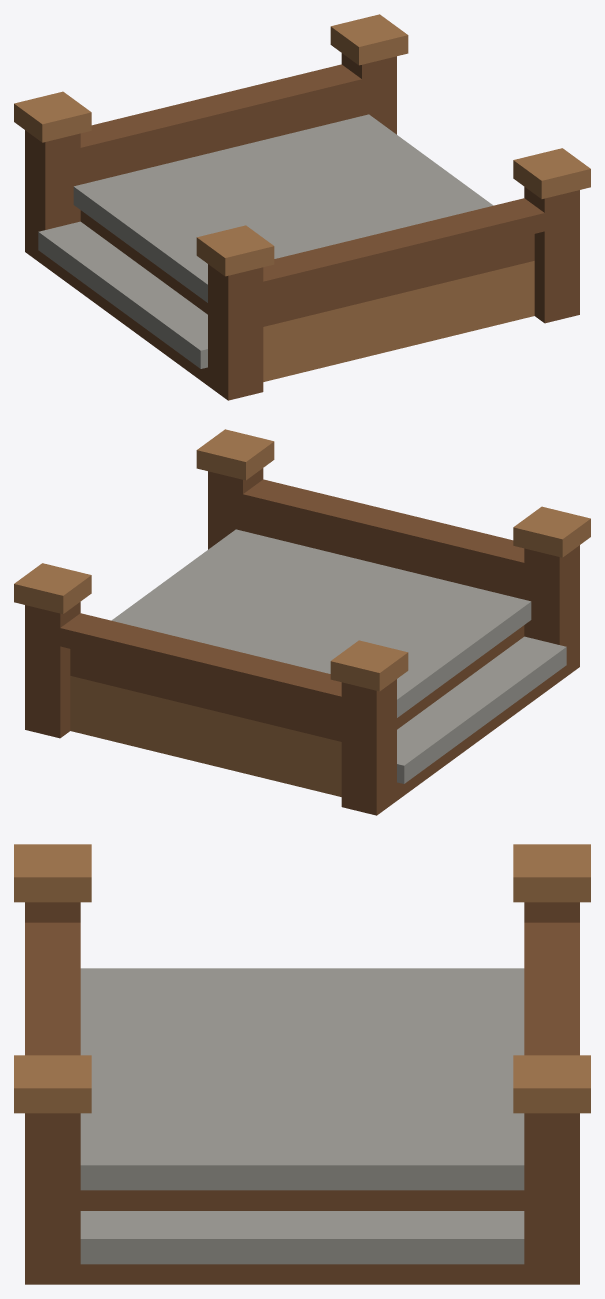
File: bridge_wood.glb
3 views of the same model, one above another, from view 1: azimuth 30°, elevation 25°; view 2: azimuth 150°, elevation 25°; view 3: azimuth 270°, elevation 25° (orthographic). The views are drawn at different scales.
Visible parts, largest first — view 1: bridge_wood; view 2: bridge_wood; view 3: bridge_wood.
Boxes of the visible parts, x1,y1,x2,y2 form: bridge_wood: (14,14,590,400); bridge_wood: (14,429,590,815); bridge_wood: (14,844,590,1284).
Bounding box in the file's own units: 1.04 × 0.4 × 1.04.
